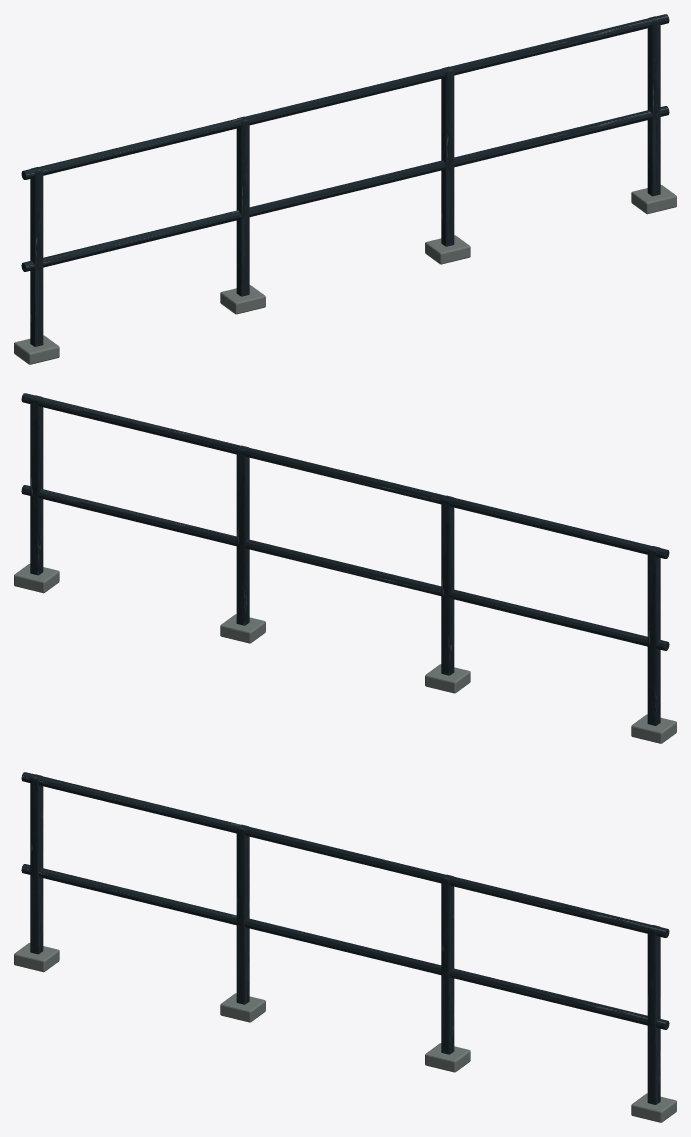
Rendered from guardrail.glb.
3 renders of one model, top to bottom at view 1: azimuth 30°, elevation 25°; view 2: azimuth 150°, elevation 25°; view 3: azimuth 330°, elevation 25°, orthographic.
Visible parts, largest first — view 1: guardrail__guardrail__steel, guardrail__guardrail__hardware; view 2: guardrail__guardrail__steel, guardrail__guardrail__hardware; view 3: guardrail__guardrail__steel, guardrail__guardrail__hardware.
Part boxes in pixels (x1,y1,x2,y2): guardrail__guardrail__steel: [21, 14, 669, 346]; guardrail__guardrail__hardware: [14, 185, 676, 364]; guardrail__guardrail__steel: [21, 393, 669, 725]; guardrail__guardrail__hardware: [14, 564, 676, 743]; guardrail__guardrail__steel: [21, 772, 669, 1104]; guardrail__guardrail__hardware: [14, 943, 676, 1122].
Size of the model in its own units: 3.99 by 1.11 by 0.17.
Materials: 2 (1 with a texture image).
